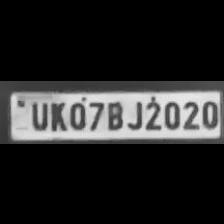0: (66, 98, 86, 130), (160, 98, 180, 130), (200, 97, 218, 128)
2: (142, 98, 162, 130), (180, 98, 198, 130)
7: (86, 97, 104, 130)
B: (104, 97, 124, 130)
J: (125, 96, 142, 130)
K: (47, 99, 66, 131)
U: (27, 98, 49, 130)
